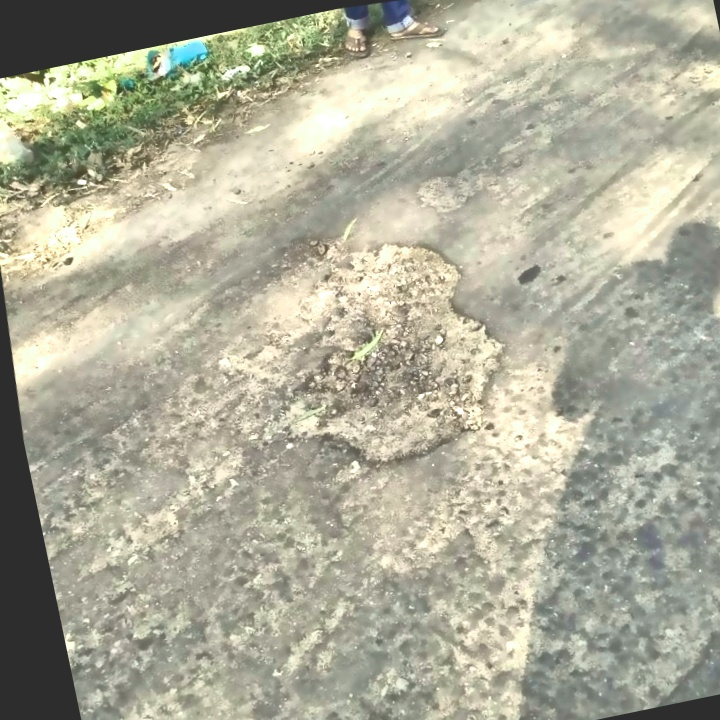pothole: (237, 202, 539, 500), (409, 160, 490, 223)
